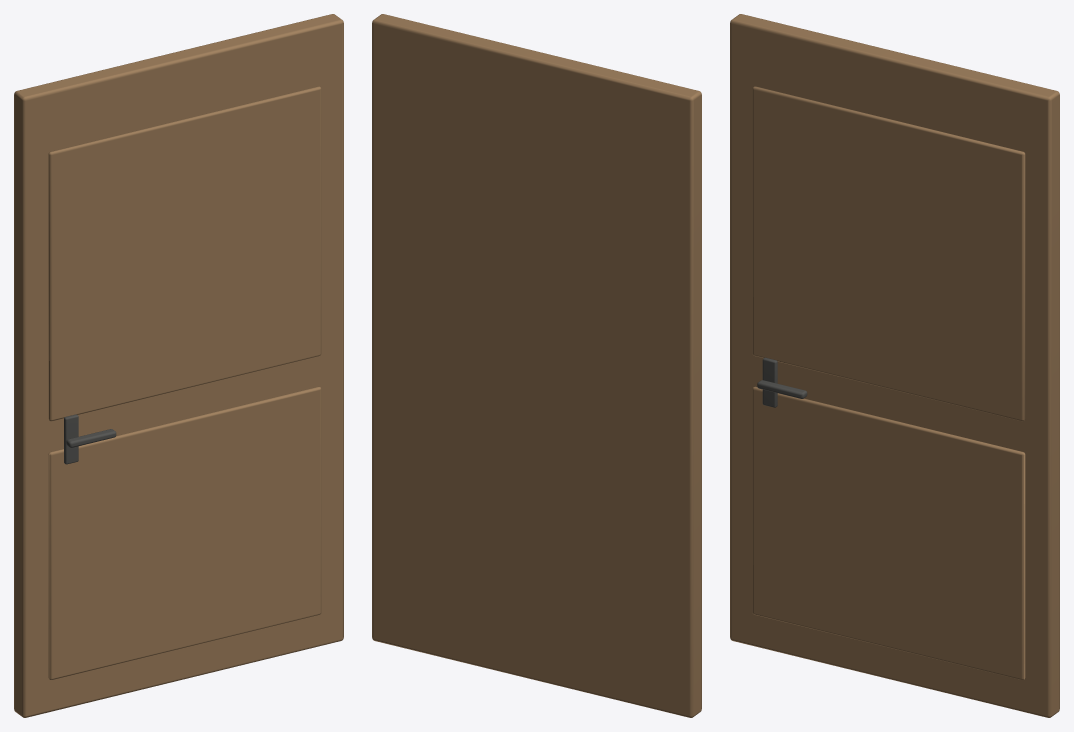
File: EntryDoor.fbx
The picture shows the model from 3 angles, left to right: view 1: azimuth 30°, elevation 25°; view 2: azimuth 150°, elevation 25°; view 3: azimuth 330°, elevation 25°; orthographic projection.
Visible parts, largest first — view 1: EntryDoor; view 2: EntryDoor; view 3: EntryDoor.
Boxes of the visible parts, box(x1,y1,x2,y2) form: EntryDoor: box(14, 14, 343, 717); EntryDoor: box(372, 14, 701, 717); EntryDoor: box(730, 14, 1059, 717).
Size of the model in its own units: 1.3 by 2.4 by 0.143.
